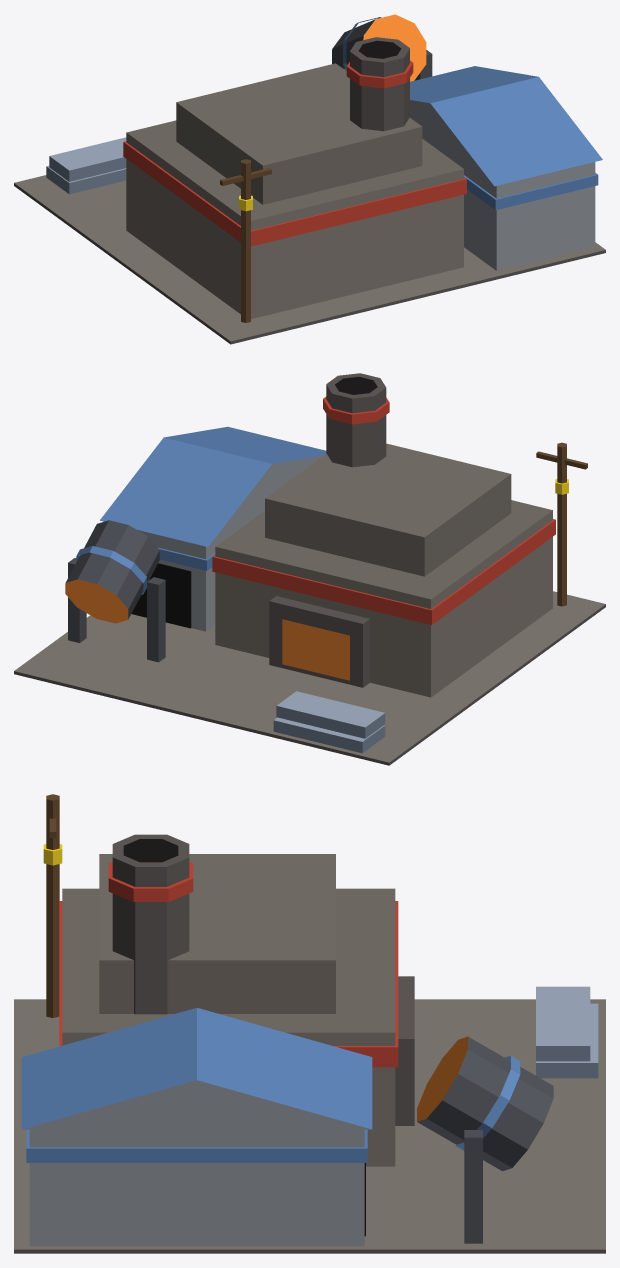
Rendered from smelter_2.obj.
The picture shows the model from 3 angles, top to bottom: view 1: azimuth 30°, elevation 25°; view 2: azimuth 150°, elevation 25°; view 3: azimuth 270°, elevation 25°; orthographic projection. The views are drawn at different scales.
Bounding box in the file's own units: 3.8 × 2.03 × 3.8.
